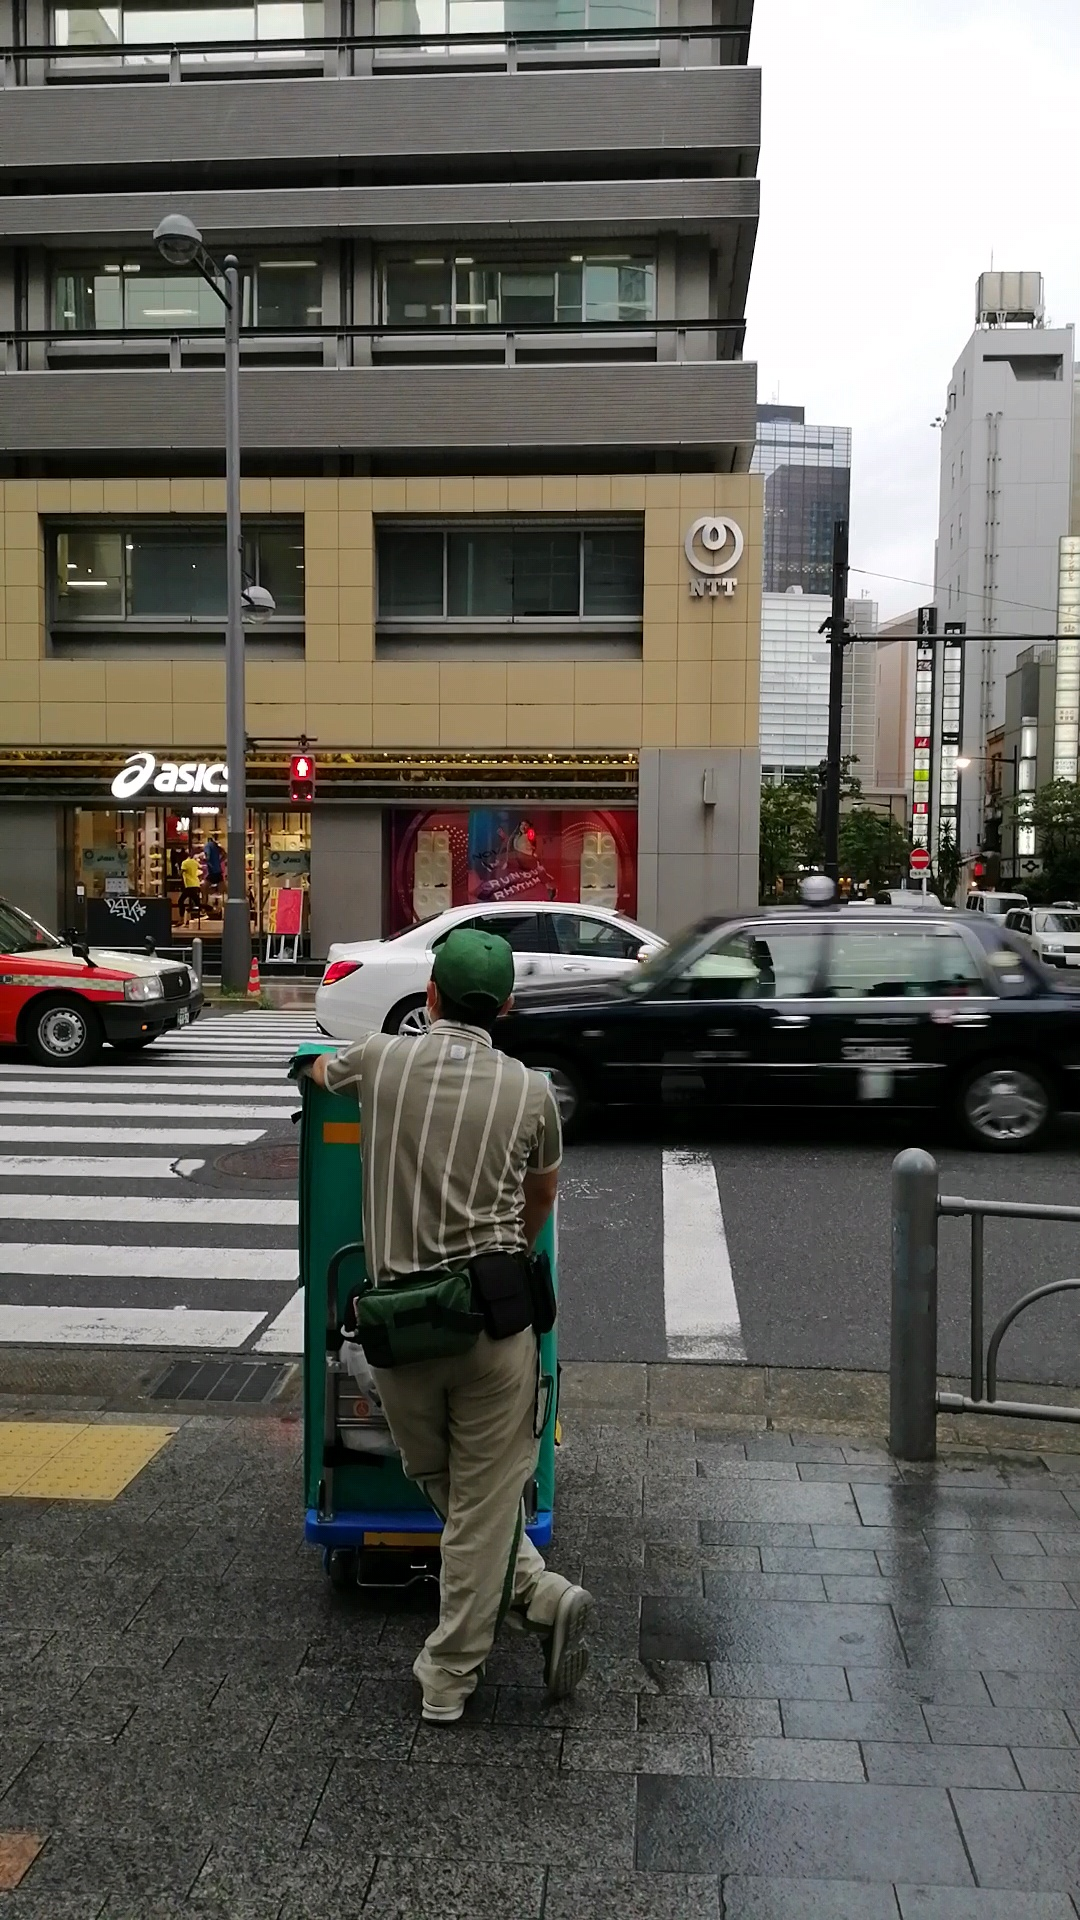red: (287, 752, 316, 808)
